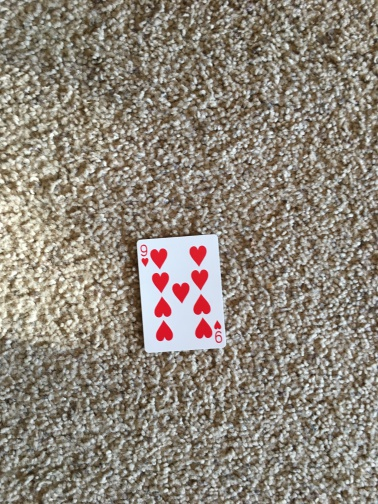nine: (134, 233, 228, 352)
